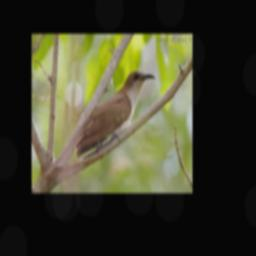Cuckoo: (76, 70, 157, 160)
